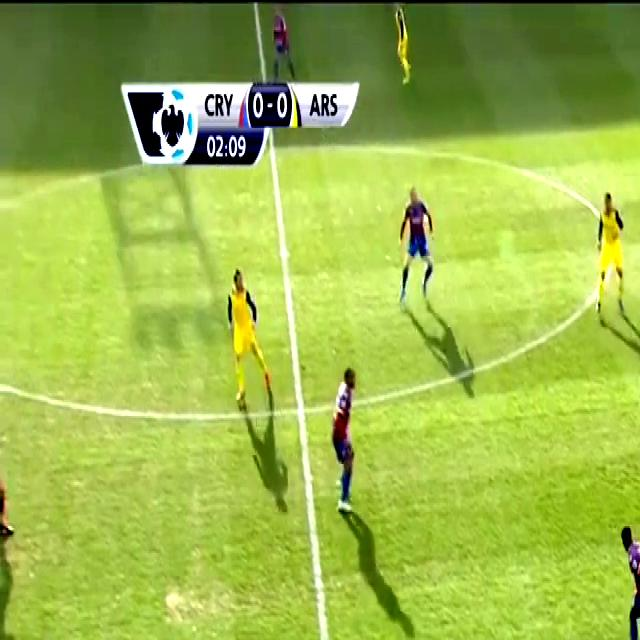soccer-player: (586, 178, 639, 336), (224, 266, 276, 422), (327, 354, 365, 519), (397, 176, 439, 308), (385, 0, 419, 91), (264, 4, 304, 79), (618, 517, 640, 640)
